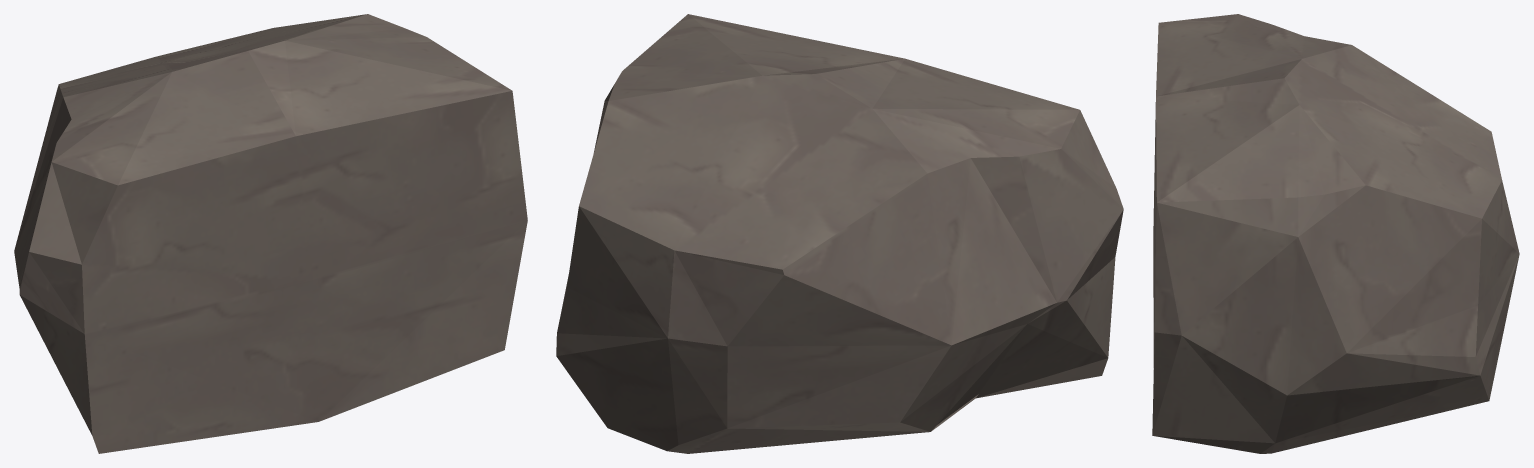
Rendered from rock-04.obj.
The picture shows the model from 3 angles, left to right: view 1: azimuth 30°, elevation 25°; view 2: azimuth 150°, elevation 25°; view 3: azimuth 270°, elevation 25°; orthographic projection. The views are drawn at different scales.
Visible parts, largest first — view 1: rock-04_Circle.033; view 2: rock-04_Circle.033; view 3: rock-04_Circle.033.
Part boxes in pixels (x1,y1,x2,y2): rock-04_Circle.033: (14, 14, 527, 453); rock-04_Circle.033: (556, 14, 1123, 453); rock-04_Circle.033: (1152, 14, 1519, 453).
Bounding box in the file's own units: 5.24 × 3.64 × 3.72.
